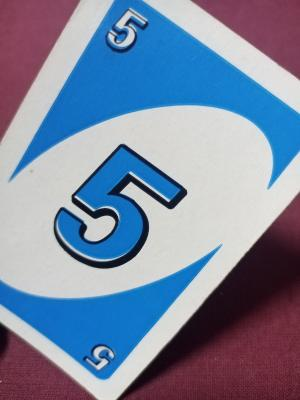blue: (40, 35, 218, 332)
num_5: (96, 6, 162, 57), (71, 337, 121, 373)
